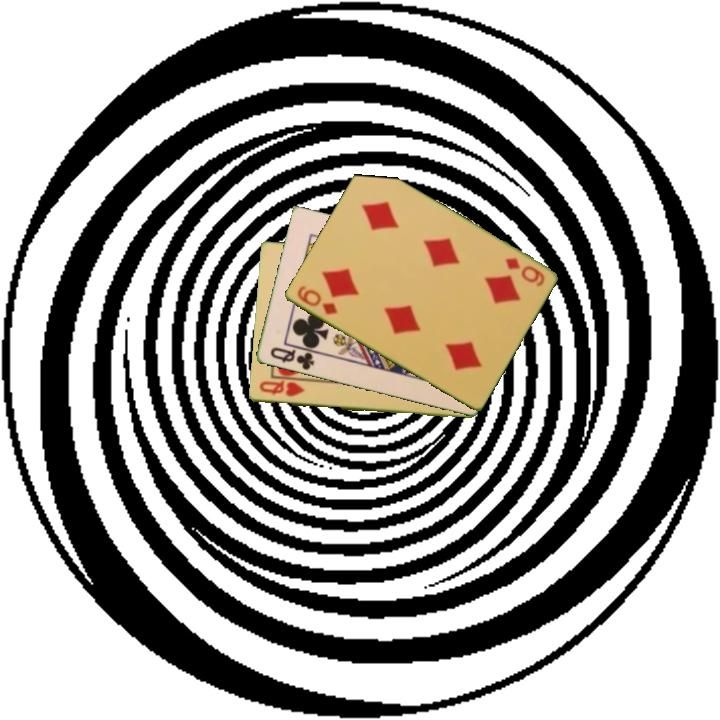6d: (293, 282, 340, 318), (501, 254, 547, 289)
Qc: (266, 344, 317, 373)
Qh: (256, 378, 307, 400)
